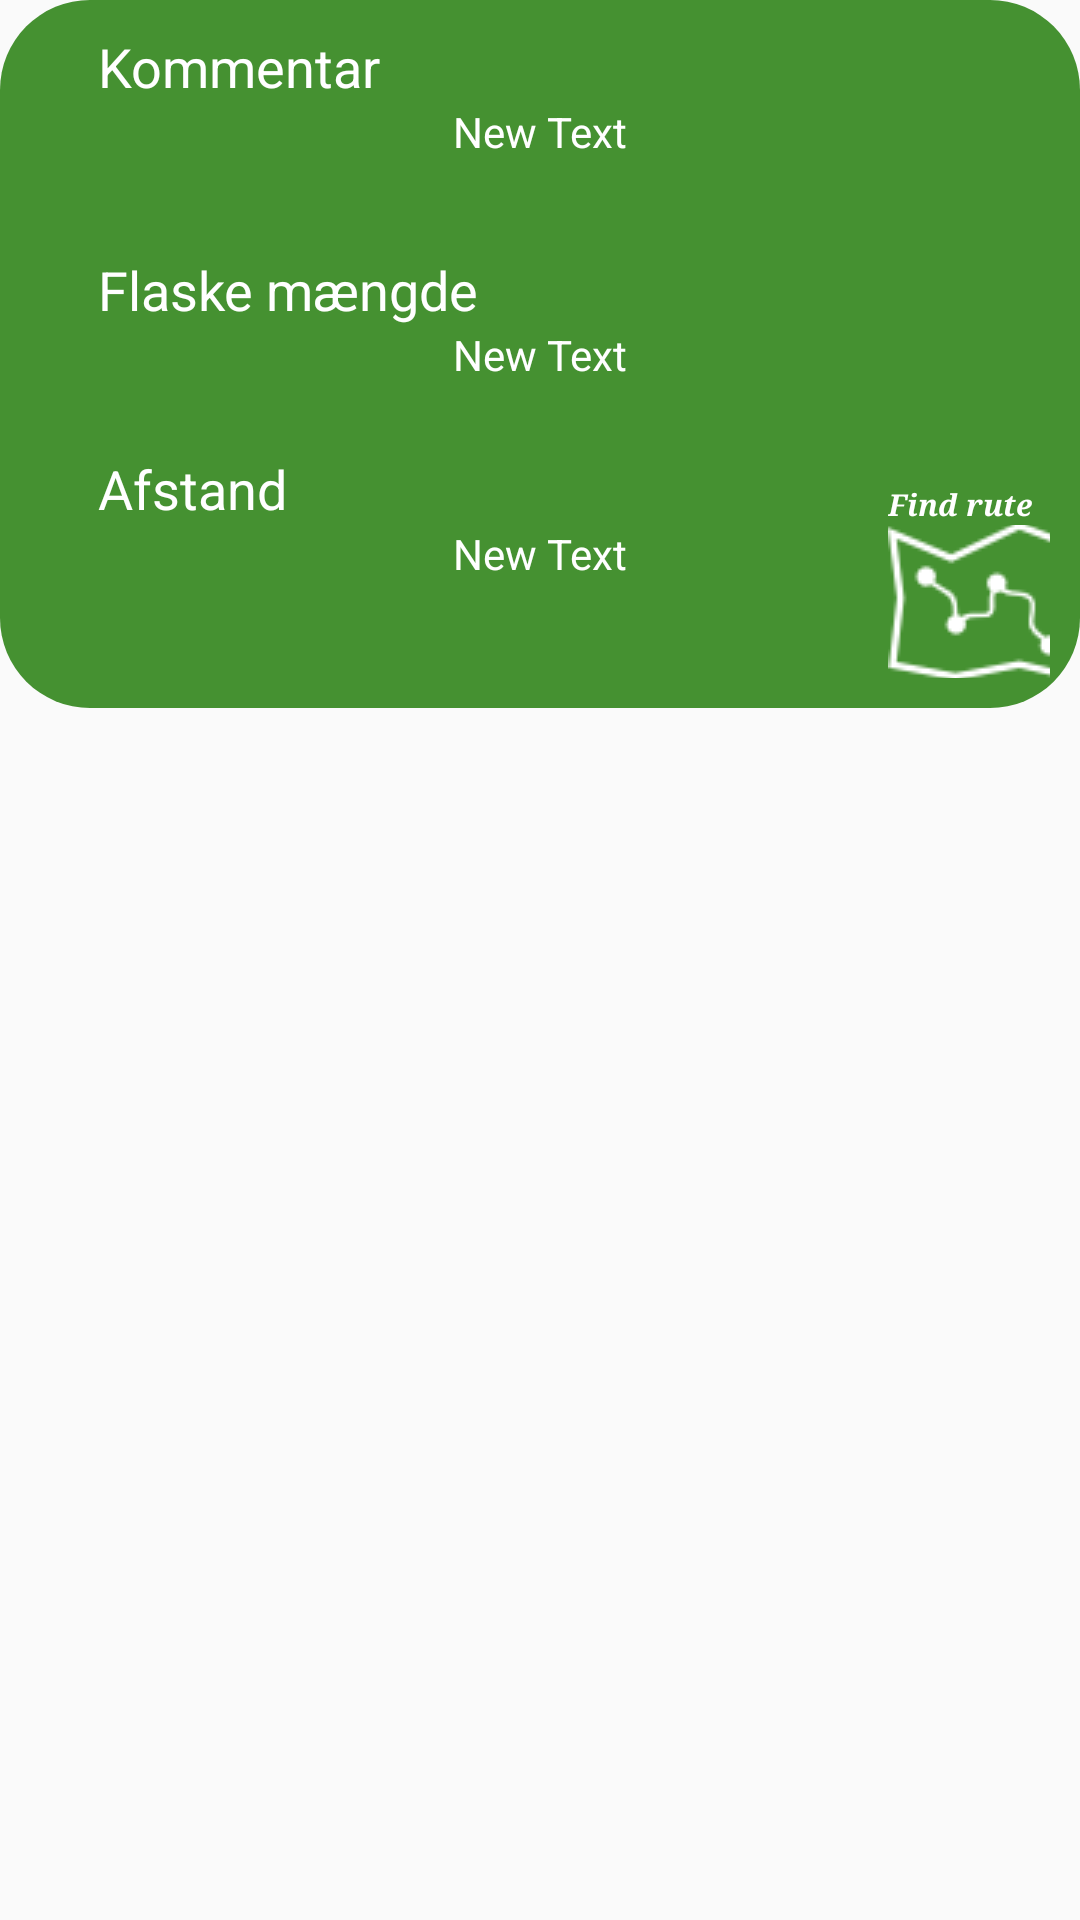

Point at icon controls on the screen. Image size 1080x1920, points as (x=x, y=y).
travel: (x=969, y=601)
